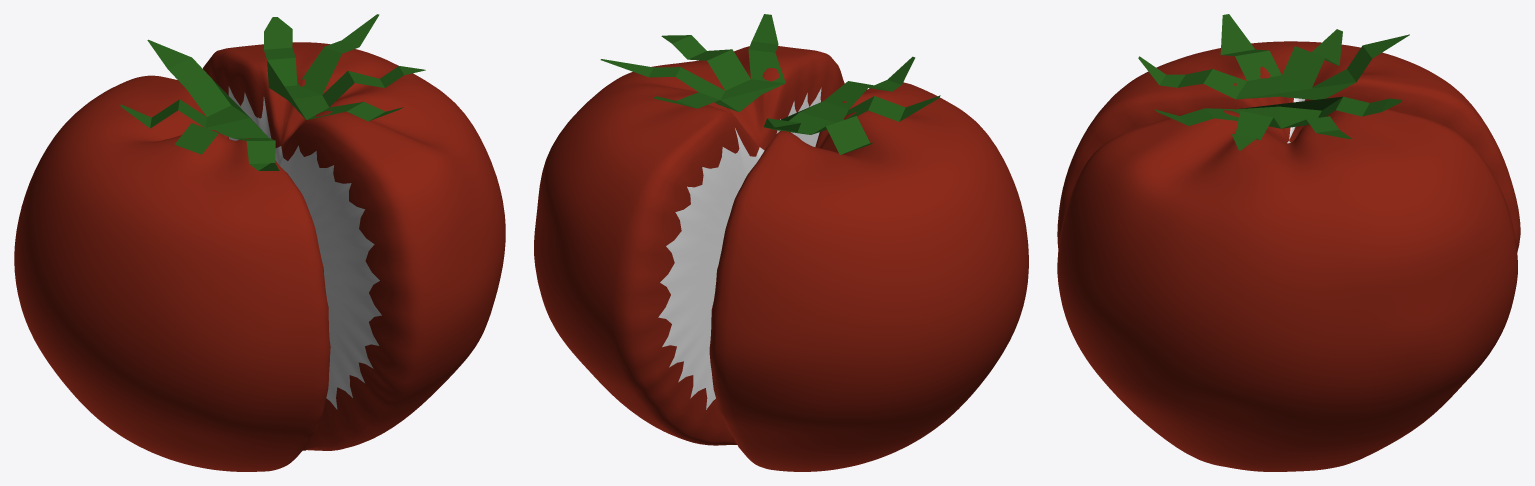
Rendered from TomatoSliced.fbx.
3 renders of one model, left to right at view 1: azimuth 30°, elevation 25°; view 2: azimuth 150°, elevation 25°; view 3: azimuth 270°, elevation 25°, orthographic. The views are drawn at different scales.
Parts seen in each view (by area): view 1: Сфера.001, Сфера, Плоскость, Плоскость.001; view 2: Сфера.001, Сфера, Плоскость, Плоскость.001; view 3: Сфера, Сфера.001, Плоскость.001, Плоскость.
Boxes of the visible parts, <box> form: Сфера.001: <box>14,75,330,471</box>; Сфера: <box>203,42,505,450</box>; Плоскость: <box>263,14,425,121</box>; Плоскость.001: <box>120,39,279,170</box>; Сфера.001: <box>709,82,1028,471</box>; Сфера: <box>534,46,844,445</box>; Плоскость: <box>600,14,785,112</box>; Плоскость.001: <box>764,56,940,154</box>; Сфера: <box>1057,109,1517,471</box>; Сфера.001: <box>1057,41,1520,251</box>; Плоскость.001: <box>1138,14,1409,99</box>; Плоскость: <box>1155,96,1402,150</box>.
Size of the model in its own units: 296 by 248 by 269.
